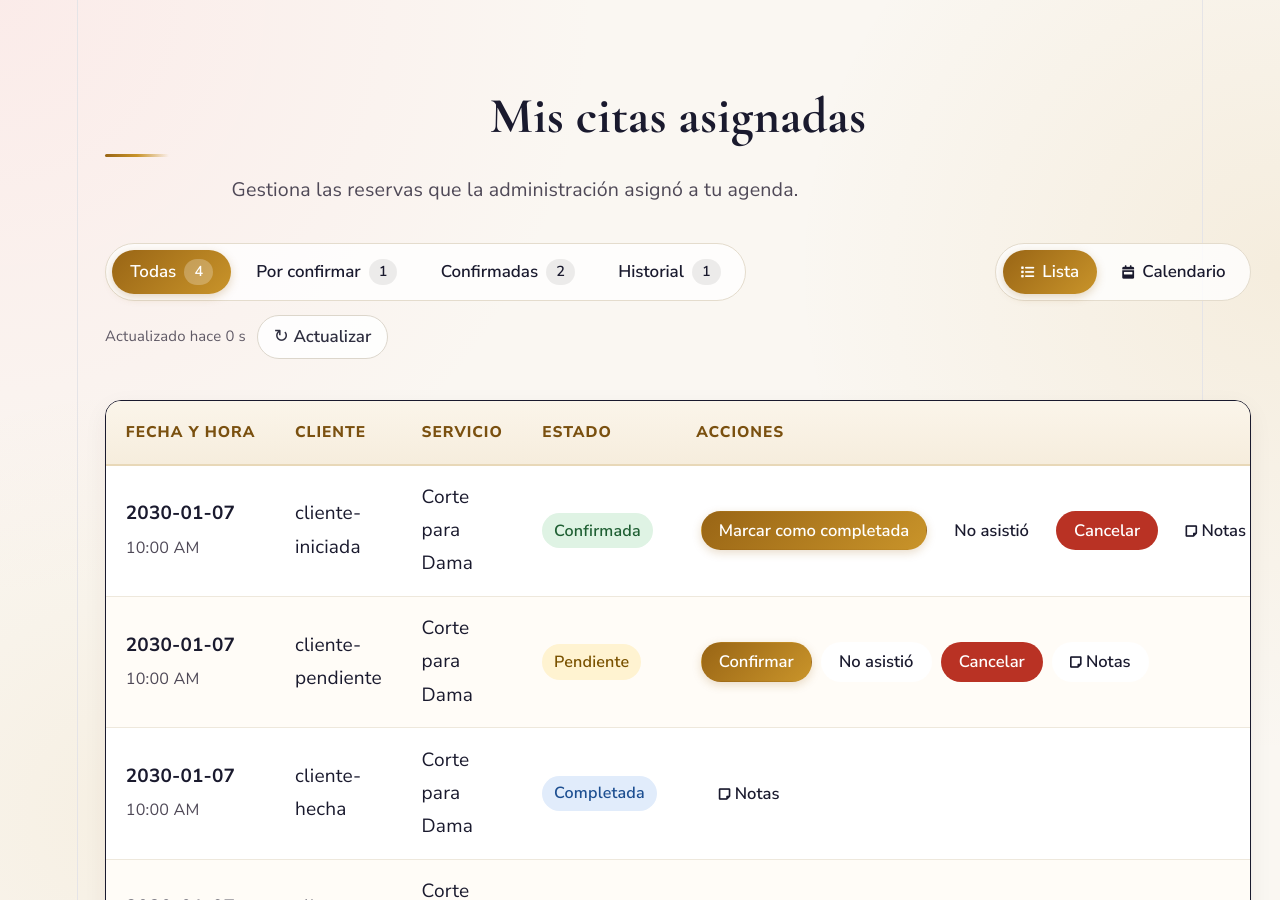
it: StylistAppointments › muestra el error del servidor si no se puede completar
The width and height of the screenshot is (1280, 900).
Expected: the text "cliente-iniciada" is shown, [275,464,402,596]
What coordinates should you click on to do the following:
click the button "Marcar como completada"
I would click on:
 (814, 531)
Its box is [701,511,927,550].
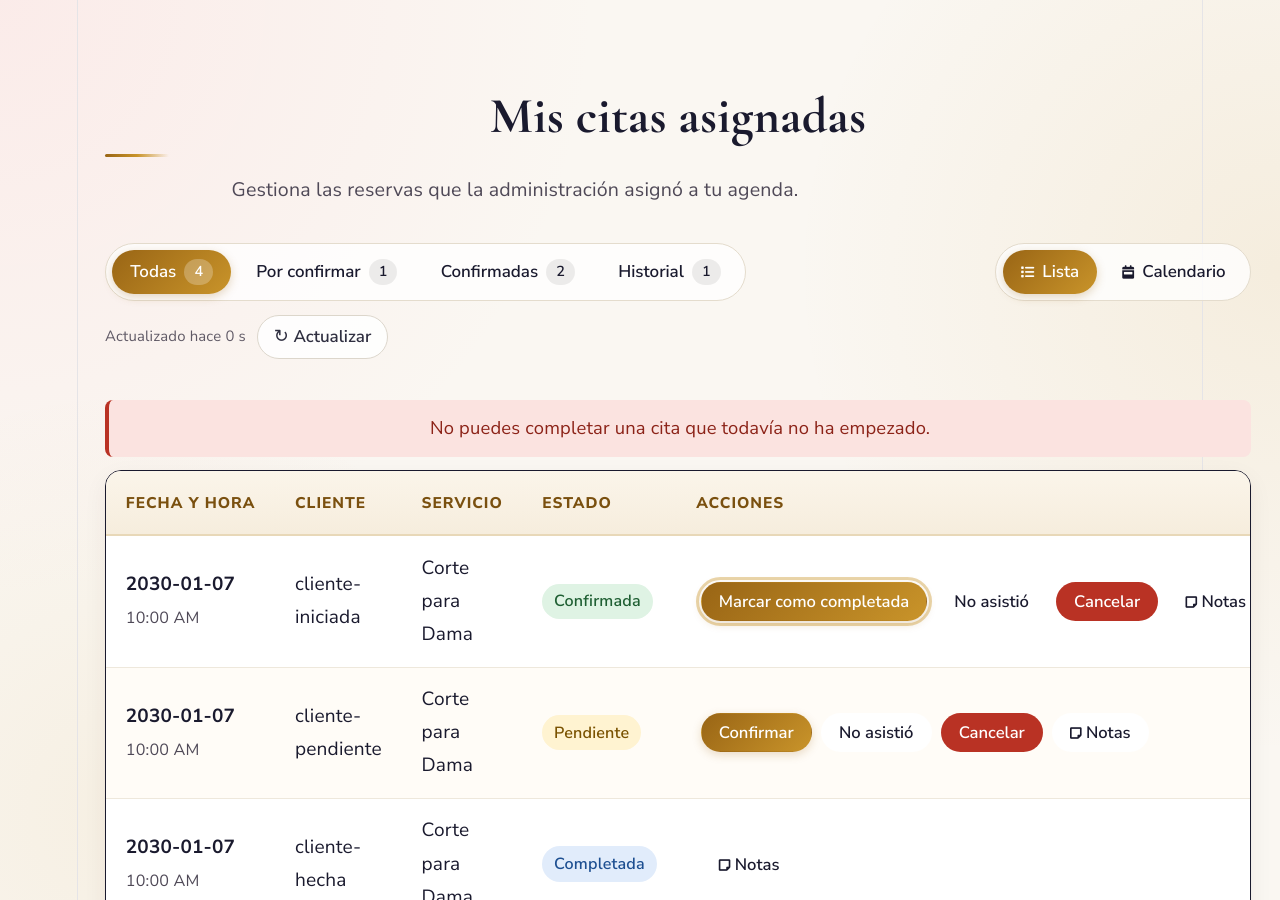
Result: the message reads "No puedes completar una cita que todavía no ha empezado." at [430,415,930,440]
